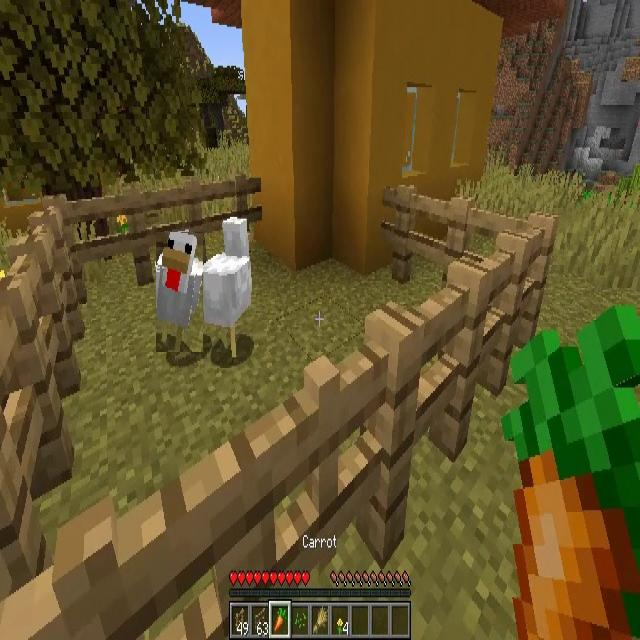duck: (205, 215, 256, 352), (156, 232, 203, 352)
